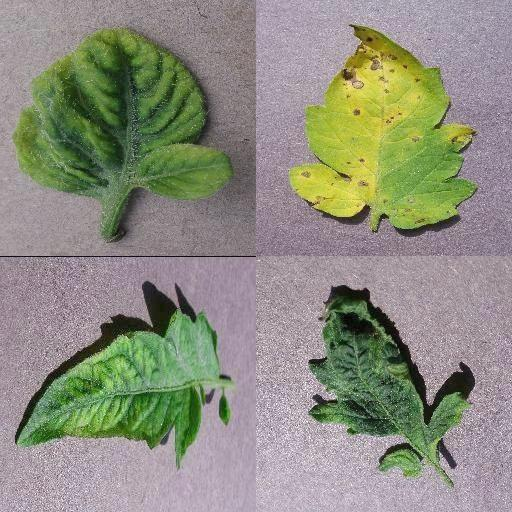Mosaic Virus: (15, 308, 219, 468), (308, 293, 478, 479)
Septoria: (290, 24, 479, 232)
Yellow Leaf Curl Virus: (15, 25, 231, 199)
